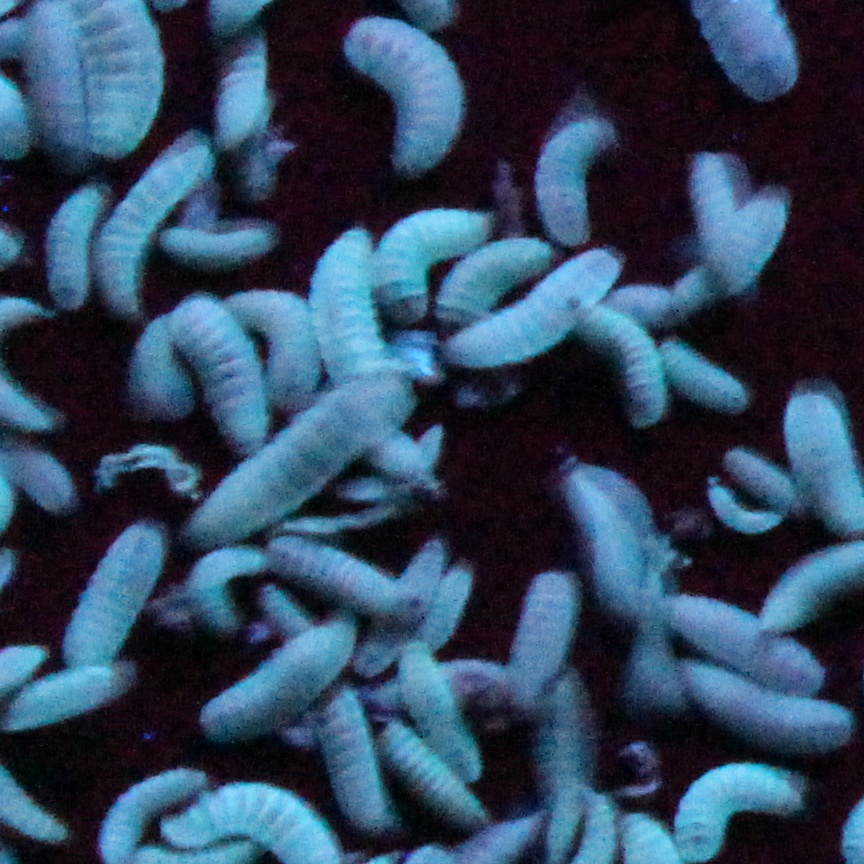larve: (176, 378, 416, 532), (440, 247, 632, 372), (90, 139, 215, 322), (344, 18, 467, 185), (202, 620, 358, 744), (165, 299, 279, 454), (679, 659, 859, 755), (667, 588, 824, 696), (62, 520, 167, 675), (260, 541, 435, 634), (363, 207, 493, 328), (559, 465, 660, 619), (349, 542, 448, 680), (682, 148, 764, 310), (309, 222, 384, 397), (216, 287, 320, 411), (394, 640, 485, 781), (312, 682, 394, 829), (425, 236, 553, 330), (535, 671, 596, 862), (575, 308, 669, 428), (1, 658, 136, 741), (704, 181, 792, 305), (533, 116, 613, 251), (505, 567, 578, 711), (125, 294, 196, 436), (206, 19, 278, 155), (185, 536, 273, 641), (363, 657, 518, 715), (40, 179, 104, 316), (146, 222, 282, 270), (655, 340, 748, 408), (723, 446, 809, 519), (1, 758, 70, 842), (706, 478, 793, 540), (4, 450, 80, 511), (598, 281, 682, 329), (1, 375, 69, 434), (1, 648, 44, 696)
